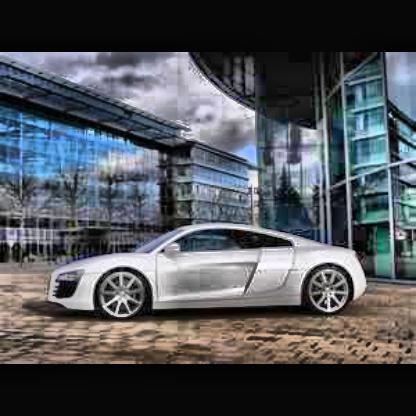Audi R8 Coupe 2012: (50, 223, 371, 329)
